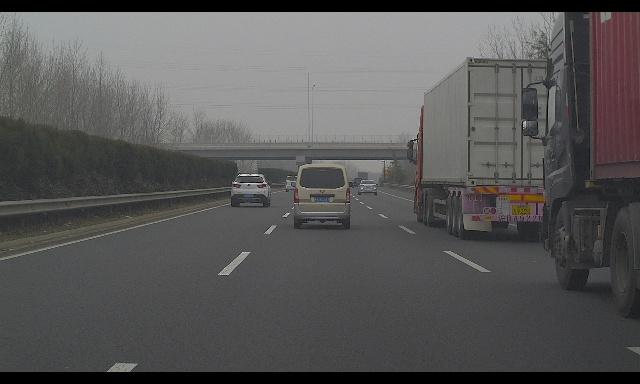car: (291, 163, 353, 229), (230, 174, 272, 207), (357, 180, 378, 196), (285, 176, 300, 192), (352, 177, 363, 188)
truck: (521, 12, 640, 317), (407, 57, 576, 240), (357, 172, 368, 182)
